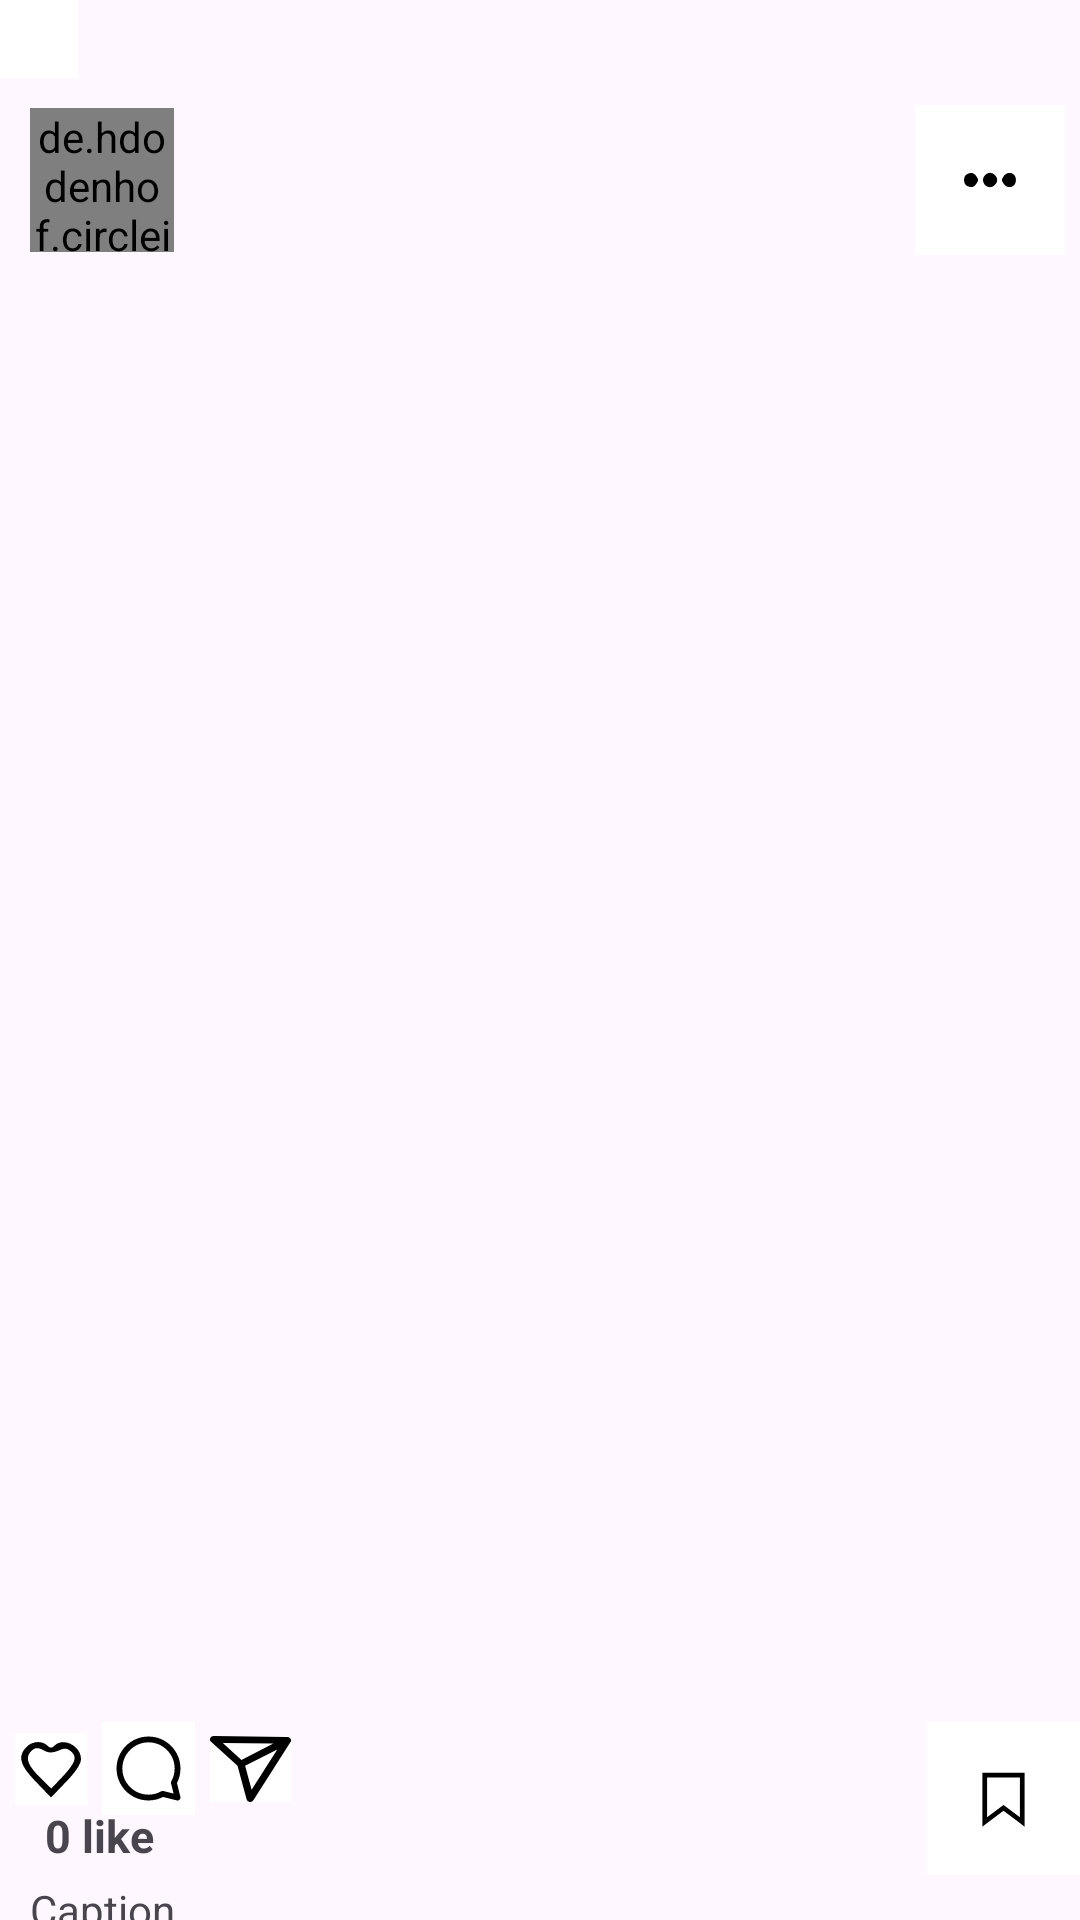

Locate icon controls on the screen. Image size 1080w x 1920h, boxes as Rect(x1, y1, x2, y2).
comment: Rect(116, 1736, 181, 1801)
option: Rect(964, 172, 1016, 188)
saved: Rect(982, 1772, 1025, 1827)
share: Rect(210, 1736, 291, 1802)
